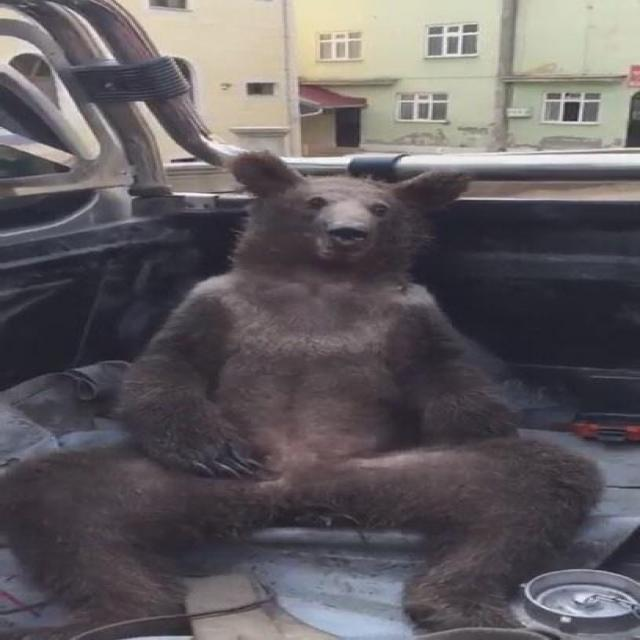Bear: (0, 154, 601, 640)
